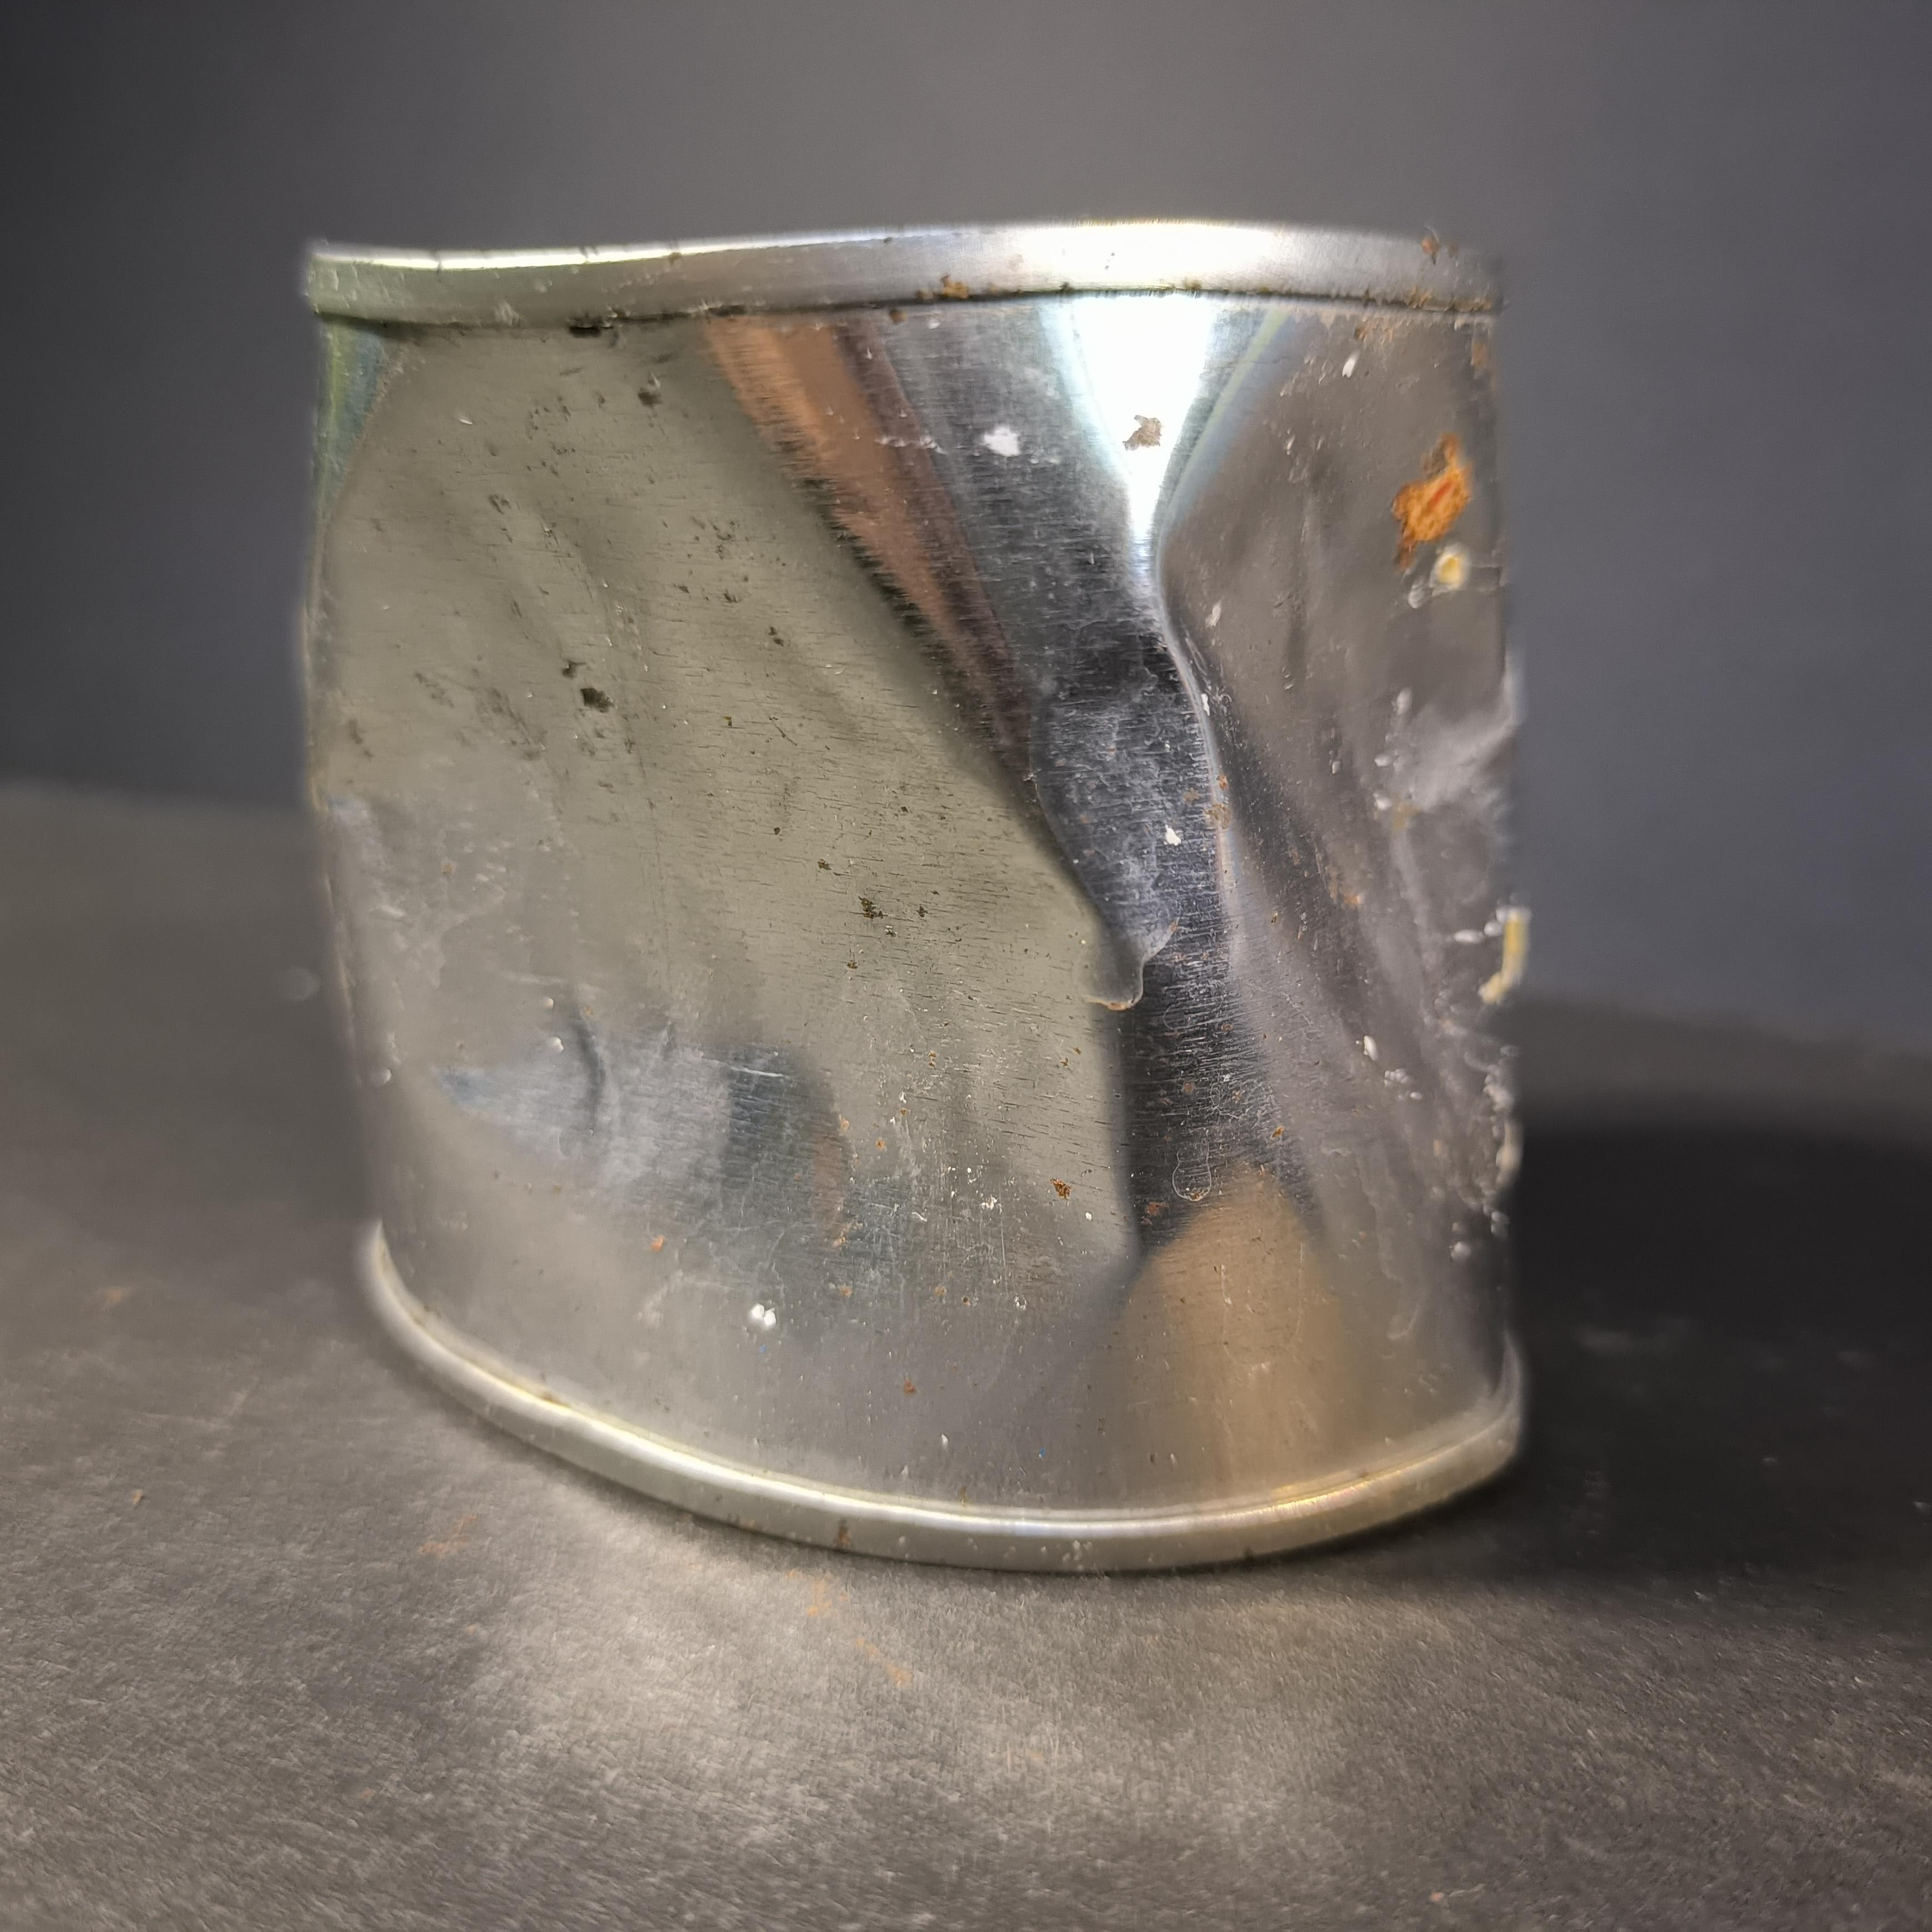Dented: (271, 166, 1564, 1624)
